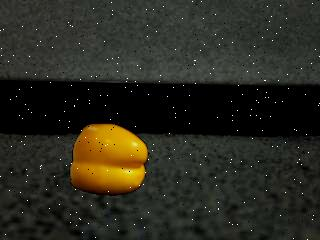Capsicum: (69, 122, 150, 197)
